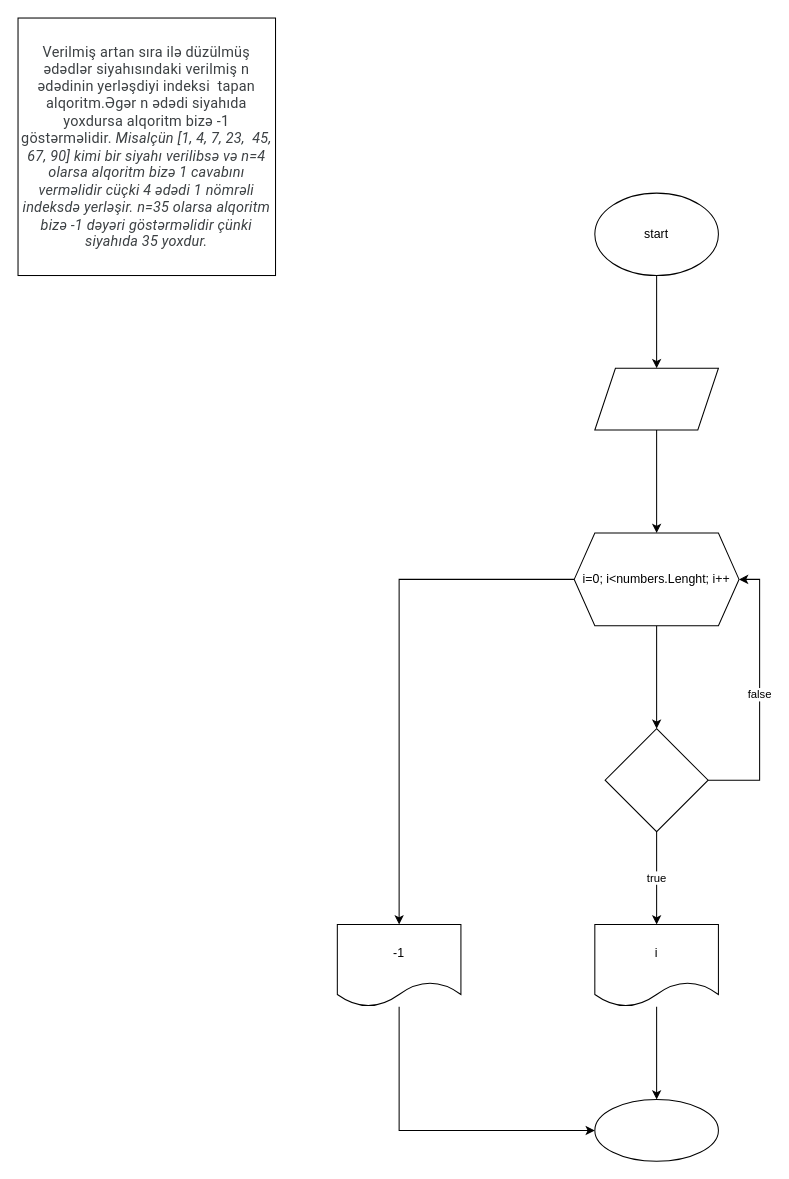
Image size: 789x1179. Some labels were removed from this diagram. The box of each missing label's shape, as (x1, y1, x2, y2) in pixels:
end: (594, 1098, 718, 1161)
numbers n: (594, 367, 718, 430)
numbers[i]==n: (604, 728, 708, 832)
